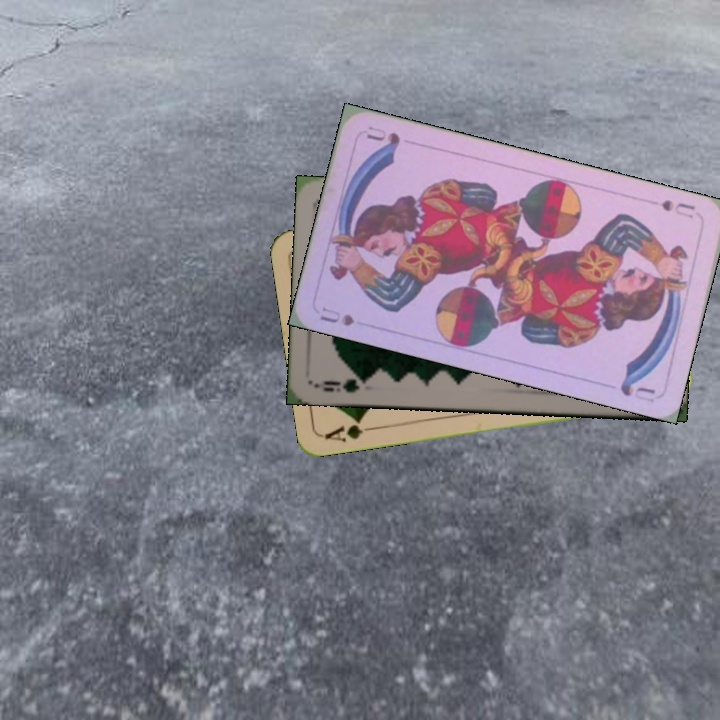G9: (312, 371, 372, 395)
GA: (321, 415, 381, 445)
SU: (644, 195, 698, 222), (316, 303, 357, 329)
